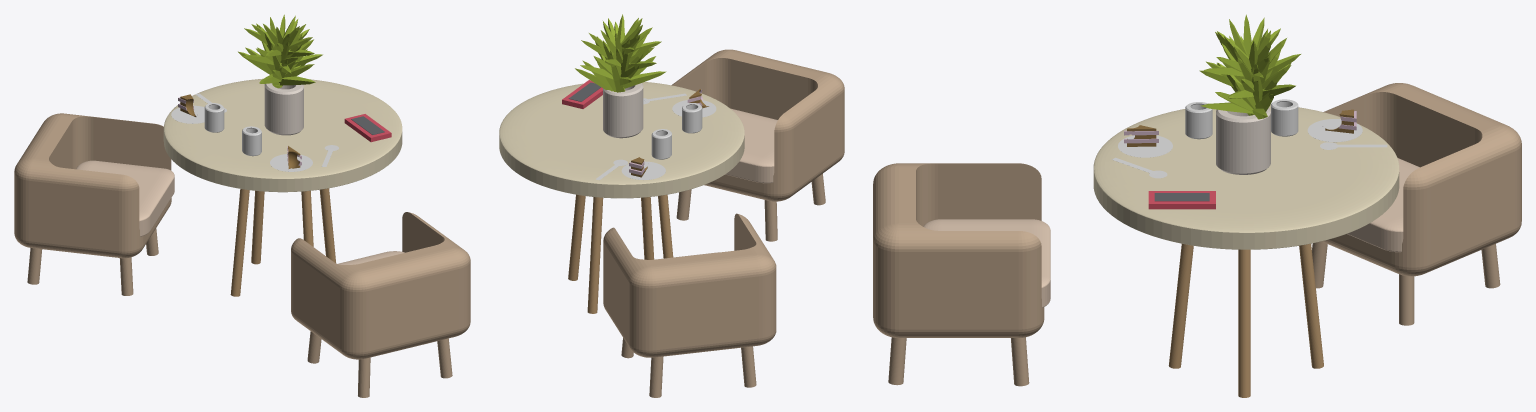
The model's file is Glorious Uusam.glb.
3 renders of one model, left to right at view 1: azimuth 30°, elevation 25°; view 2: azimuth 150°, elevation 25°; view 3: azimuth 270°, elevation 25°, orthographic. The views are drawn at different scales.
Visible parts, largest first — view 1: Mesh_Mesh_head_geo.001_lambert2SG.001; view 2: Mesh_Mesh_head_geo.001_lambert2SG.001; view 3: Mesh_Mesh_head_geo.001_lambert2SG.001.
Part boxes in pixels (x1=…): Mesh_Mesh_head_geo.001_lambert2SG.001: x1=14, y1=14, x2=470, y2=397; Mesh_Mesh_head_geo.001_lambert2SG.001: x1=499, y1=14, x2=844, y2=397; Mesh_Mesh_head_geo.001_lambert2SG.001: x1=873, y1=14, x2=1521, y2=397.
Size of the model in its own units: 0.075 by 0.0612 by 0.106.
